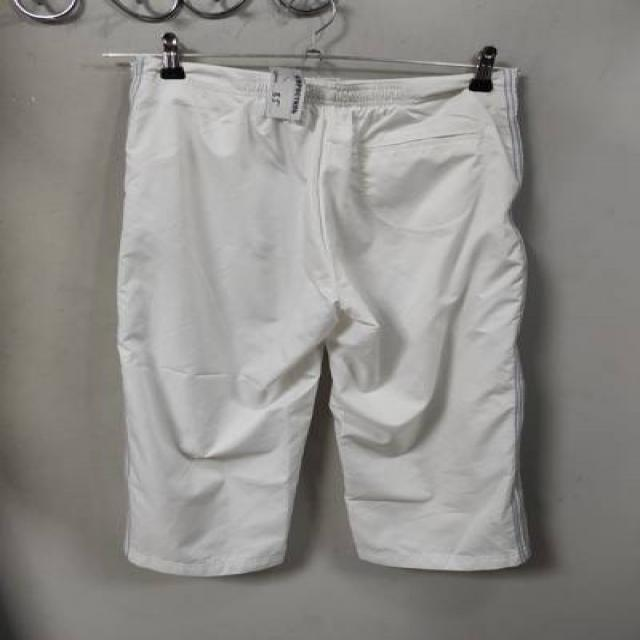Clothes -Biodegradable-: (108, 55, 533, 575)
